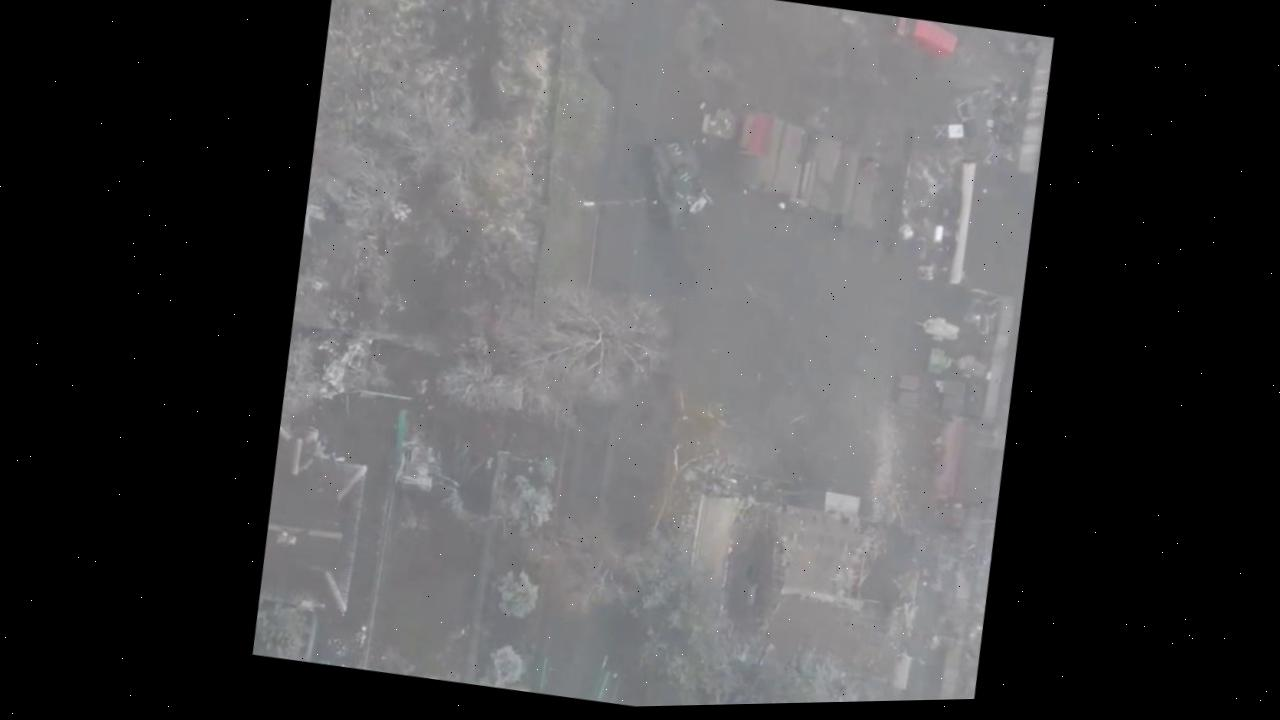tank: (633, 129, 724, 241)
